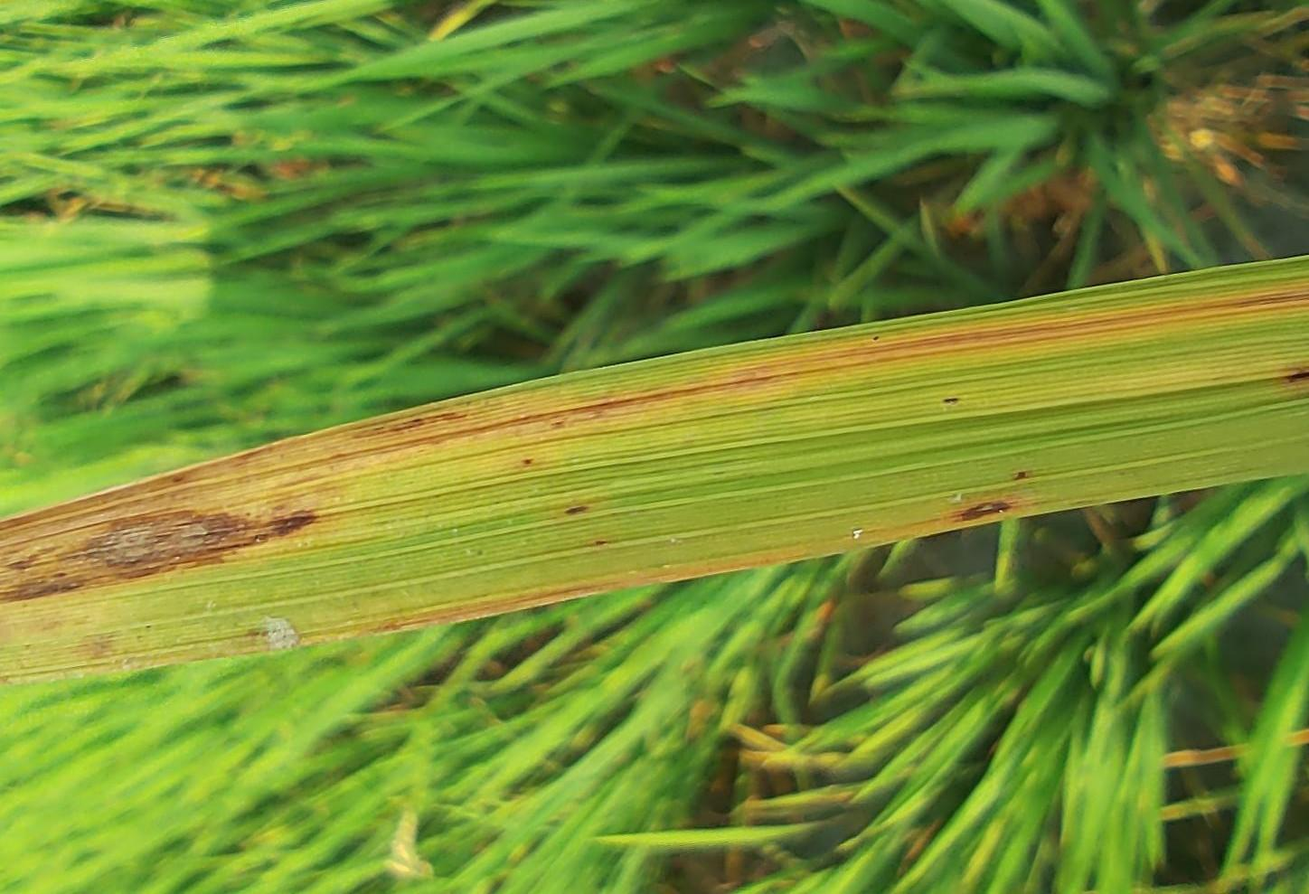LEAF: (0, 259, 1308, 682)
LEAF BLAST: (53, 507, 320, 581), (3, 573, 81, 604), (3, 545, 66, 571), (950, 501, 1012, 523)
